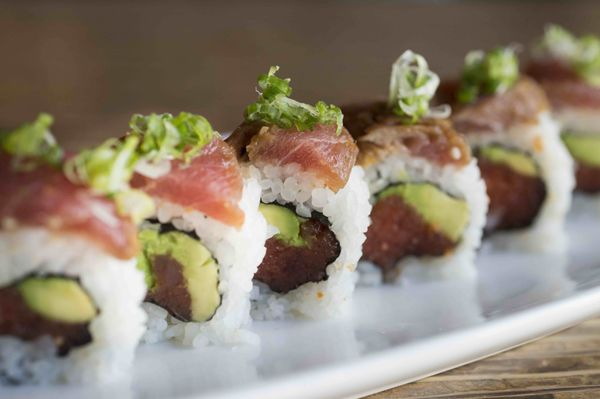curry: (525, 24, 600, 90), (454, 45, 521, 107), (0, 112, 64, 170)
